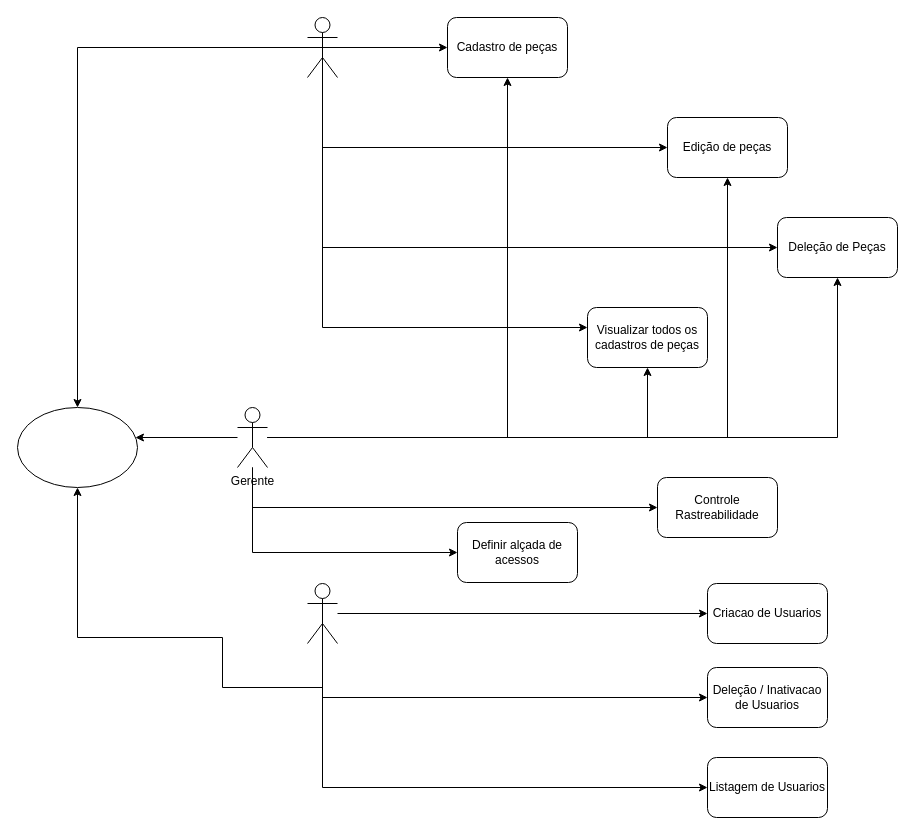
Image size: 915x835. Some labels were removed from this diagram. Here are the shapes that lost their labels. From the top down, the centre of each, then its label:
point 322,47: Usuario
point 77,447: LOGIN
point 322,613: Administrador do Sistema
